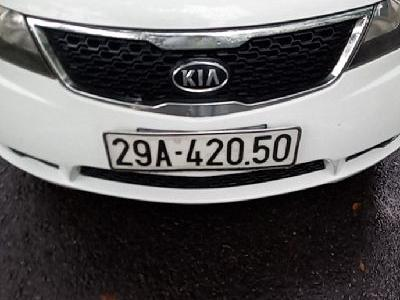lisence: (102, 126, 302, 173)
